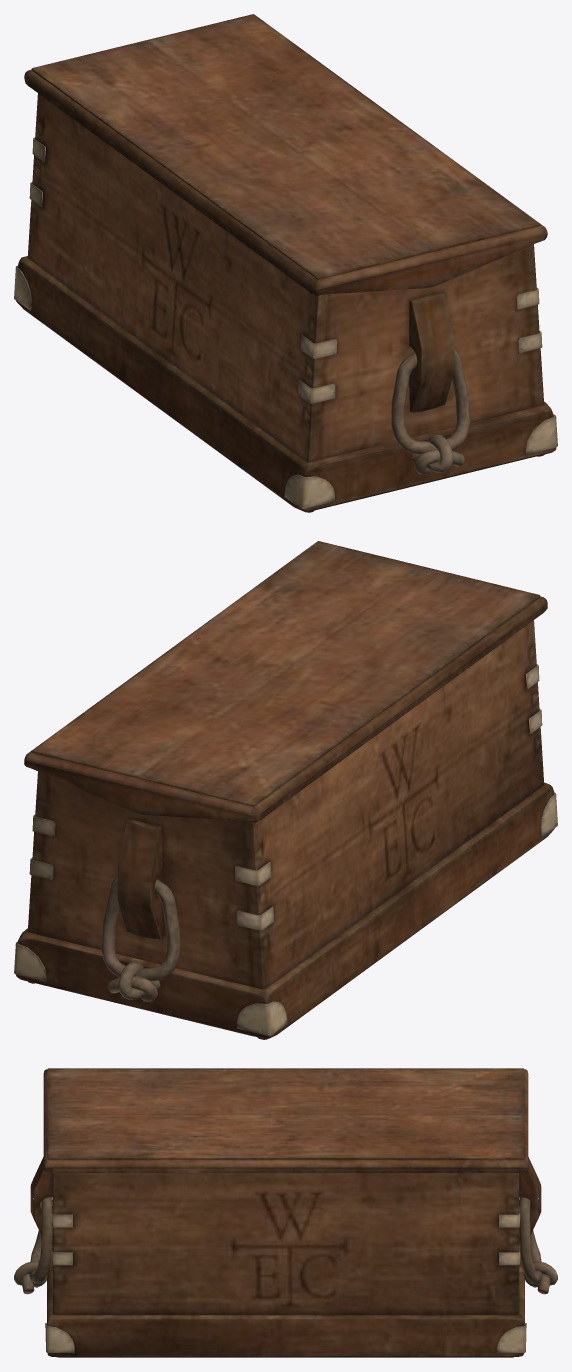
Rendered from wooden_crate_02.gltf.
3 views of the same model, one above another, from view 1: azimuth 30°, elevation 25°; view 2: azimuth 150°, elevation 25°; view 3: azimuth 270°, elevation 25° (orthographic). The views are drawn at different scales.
Parts seen in each view (by area): view 1: wooden_crate_02_crate; view 2: wooden_crate_02_crate; view 3: wooden_crate_02_crate.
Boxes of the visible parts, x1,y1,x2,y2 form: wooden_crate_02_crate: (14, 14, 557, 512); wooden_crate_02_crate: (14, 541, 557, 1039); wooden_crate_02_crate: (14, 1068, 557, 1357).
Bounding box in the file's own units: 0.5291 × 0.464 × 1.17.
Materials: 1 (1 with a texture image).
